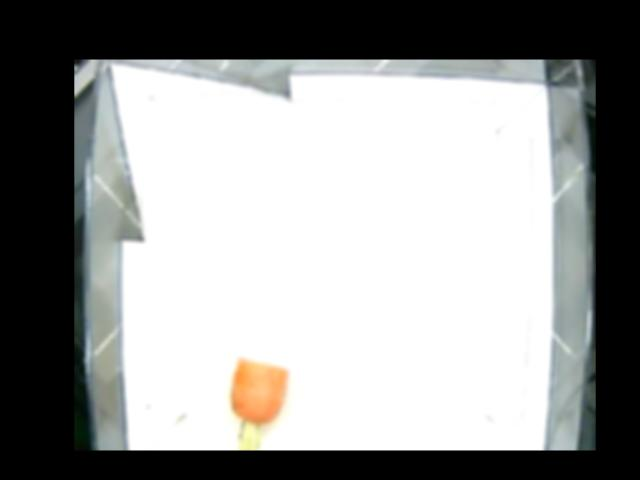Carrot: (224, 355, 289, 450)
